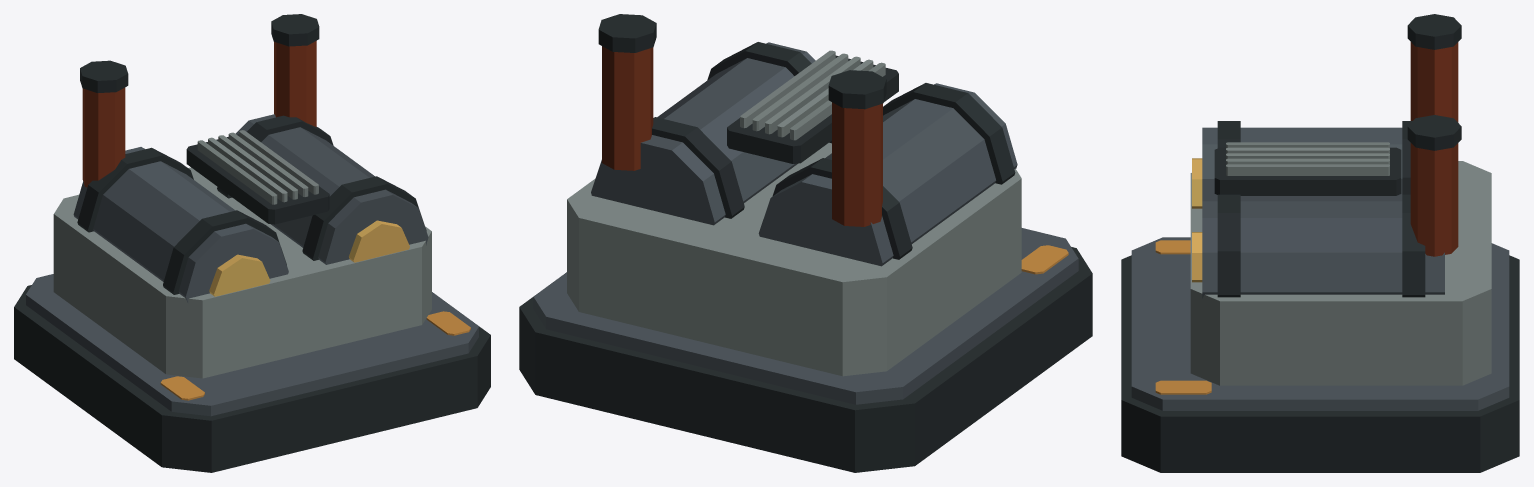
Rendered from power_plant.glb.
3 renders of one model, left to right at view 1: azimuth 30°, elevation 25°; view 2: azimuth 150°, elevation 25°; view 3: azimuth 270°, elevation 25°, orthographic. The views are drawn at different scales.
Visible parts, largest first — view 1: power_plant; view 2: power_plant; view 3: power_plant.
Boxes of the visible parts, x1=… form: power_plant: x1=14, y1=14, x2=490, y2=472; power_plant: x1=519, y1=14, x2=1092, y2=472; power_plant: x1=1121, y1=14, x2=1519, y2=472.
Size of the model in its own units: 1.98 by 1.65 by 1.92.
